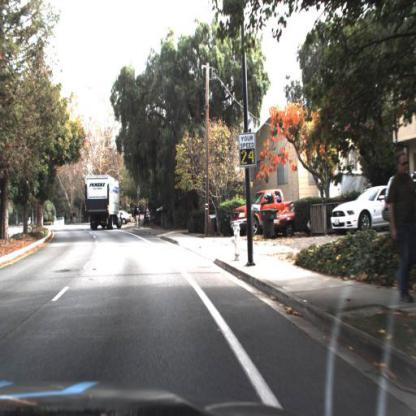car: (332, 186, 390, 233), (231, 188, 286, 235), (276, 203, 296, 238)
pedestrian: (390, 151, 416, 306), (145, 206, 151, 229), (136, 204, 141, 230)
truck: (85, 174, 121, 230)
